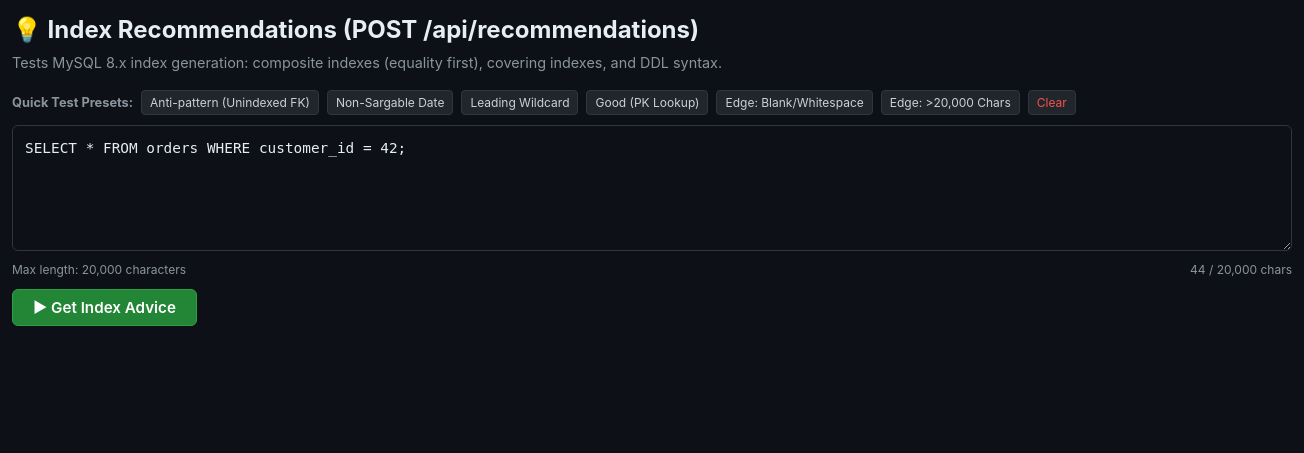
Test: RecommendationsPage Component › handles 500 Server Error cleanly
Step 1. Click the button "▶ Get Index Advice" → {"x": 104, "y": 308}, box [12, 289, 197, 326]
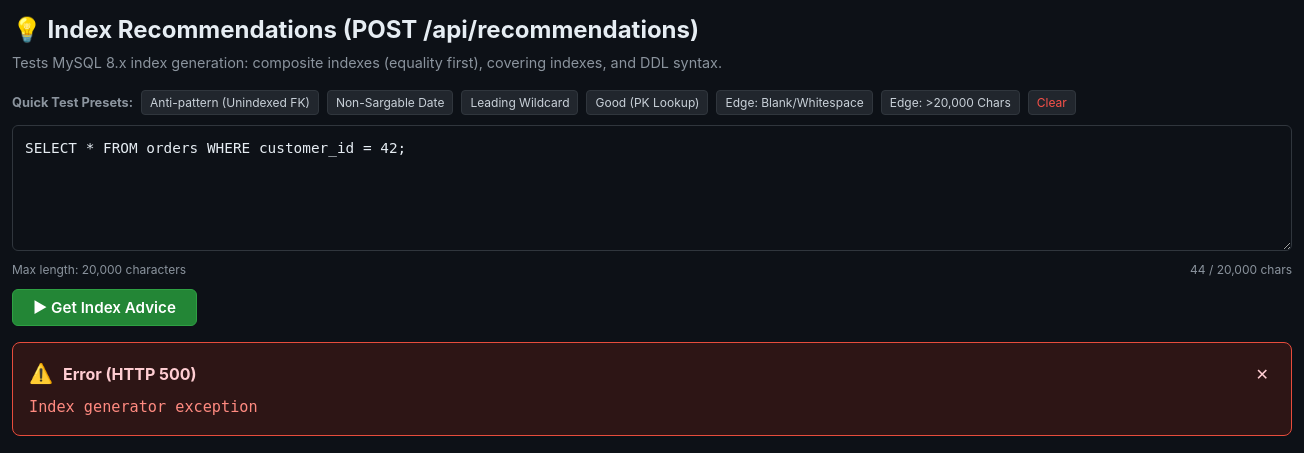
Check: the text "Index generator exception" is shown, box [29, 398, 258, 416]
Check: the text "Error (HTTP 500)" is shown, box [63, 362, 197, 386]
